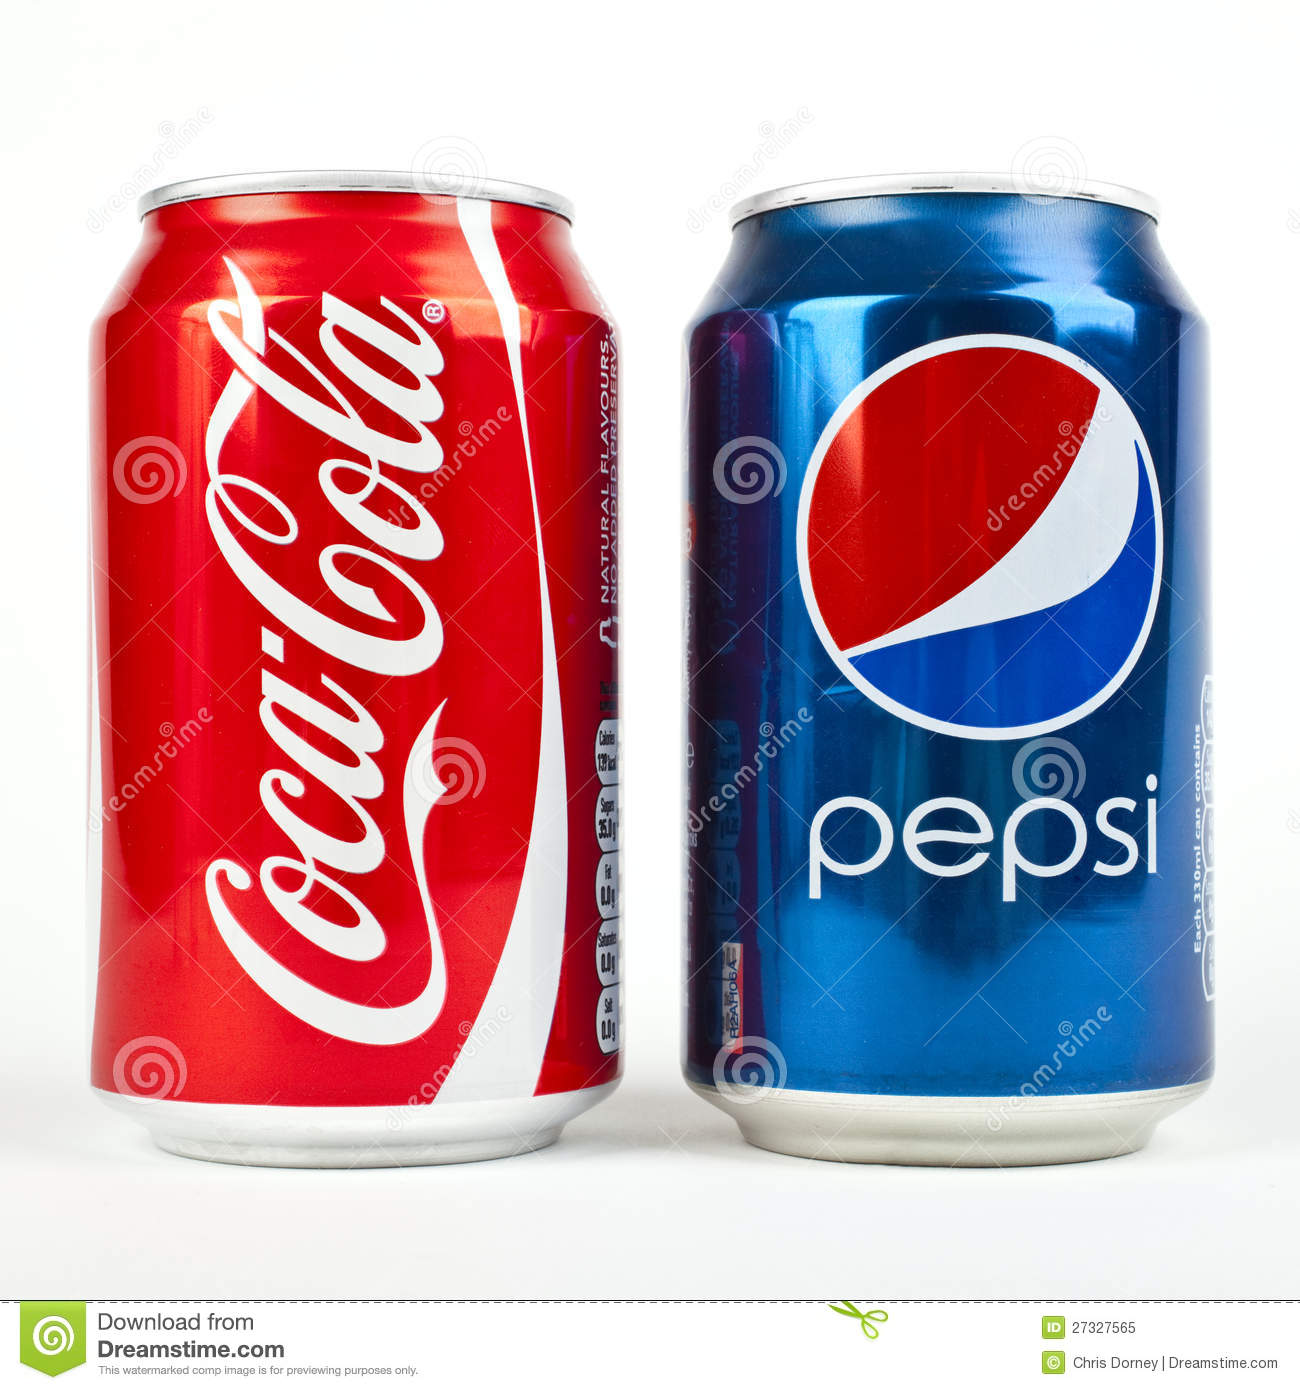can: (75, 142, 641, 1181), (670, 158, 1236, 1181)
